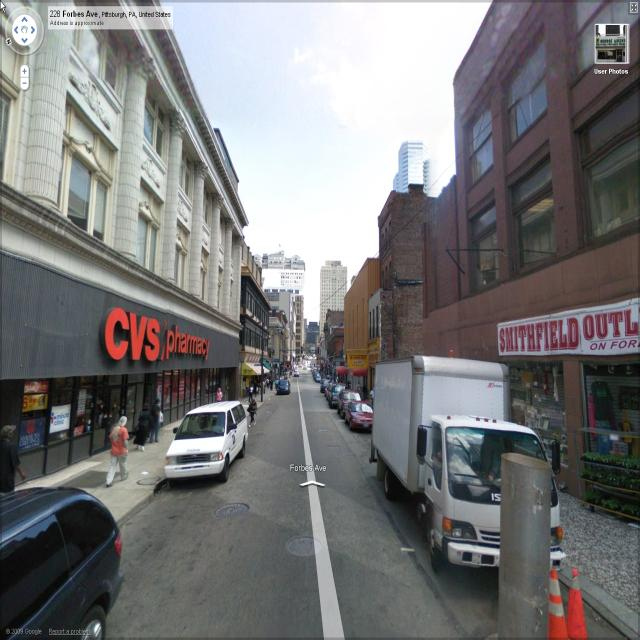b_1: (3, 1, 234, 380), (457, 10, 640, 479), (381, 176, 442, 354), (341, 262, 383, 389), (241, 278, 275, 377), (364, 297, 394, 378), (322, 253, 351, 330)
